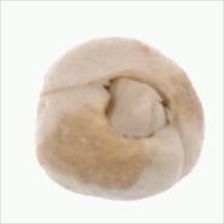L3: (97, 71, 177, 139)
L4: (33, 36, 205, 199)
